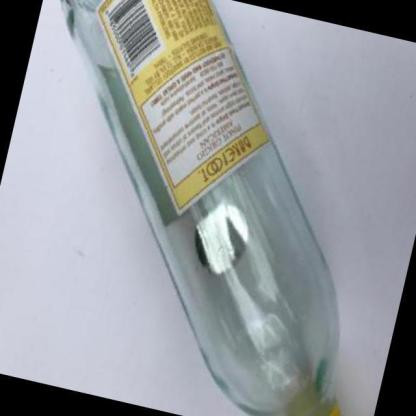Can: (60, 0, 348, 416)
